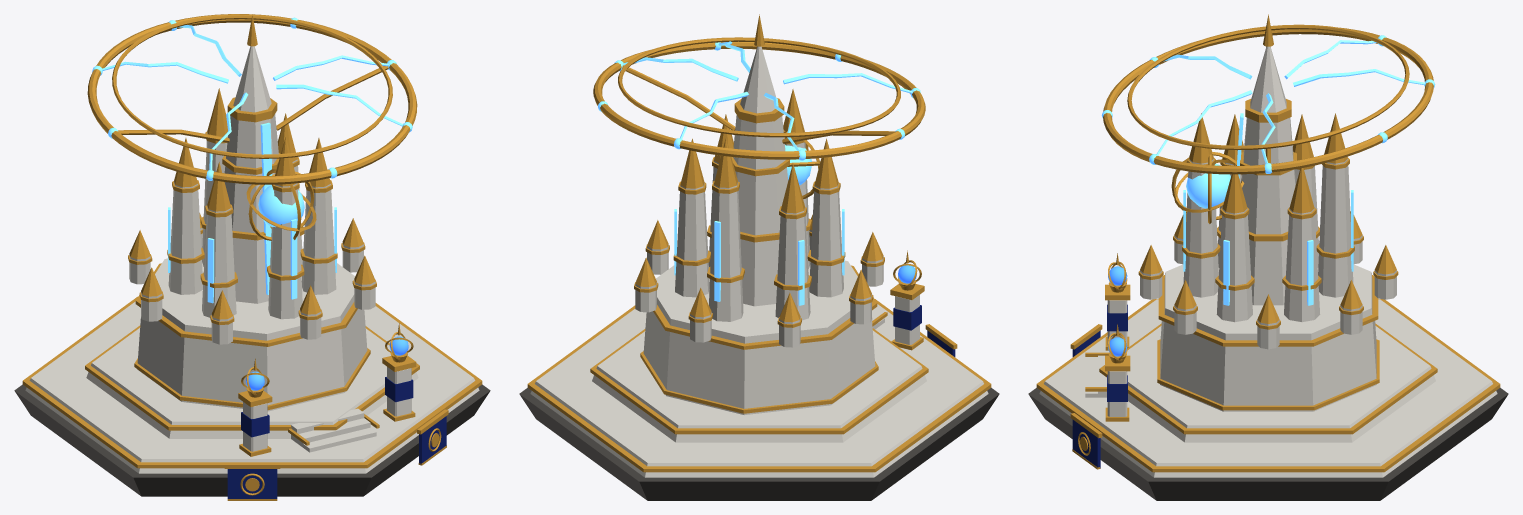
File: zeus_apex_worldstorm_spire.glb
3 renders of one model, left to right at view 1: azimuth 30°, elevation 25°; view 2: azimuth 150°, elevation 25°; view 3: azimuth 270°, elevation 25°, orthographic.
Parts seen in each view (by area): view 1: zeus_apex_worldstorm_spire; view 2: zeus_apex_worldstorm_spire; view 3: zeus_apex_worldstorm_spire.
Part boxes in pixels (box(x1,y1,x2,y2)): zeus_apex_worldstorm_spire: box(14, 14, 490, 500); zeus_apex_worldstorm_spire: box(519, 14, 999, 500); zeus_apex_worldstorm_spire: box(1028, 14, 1508, 500).
Size of the model in its own units: 1.49 by 1.6 by 1.72.
1 material, 1 textured.
